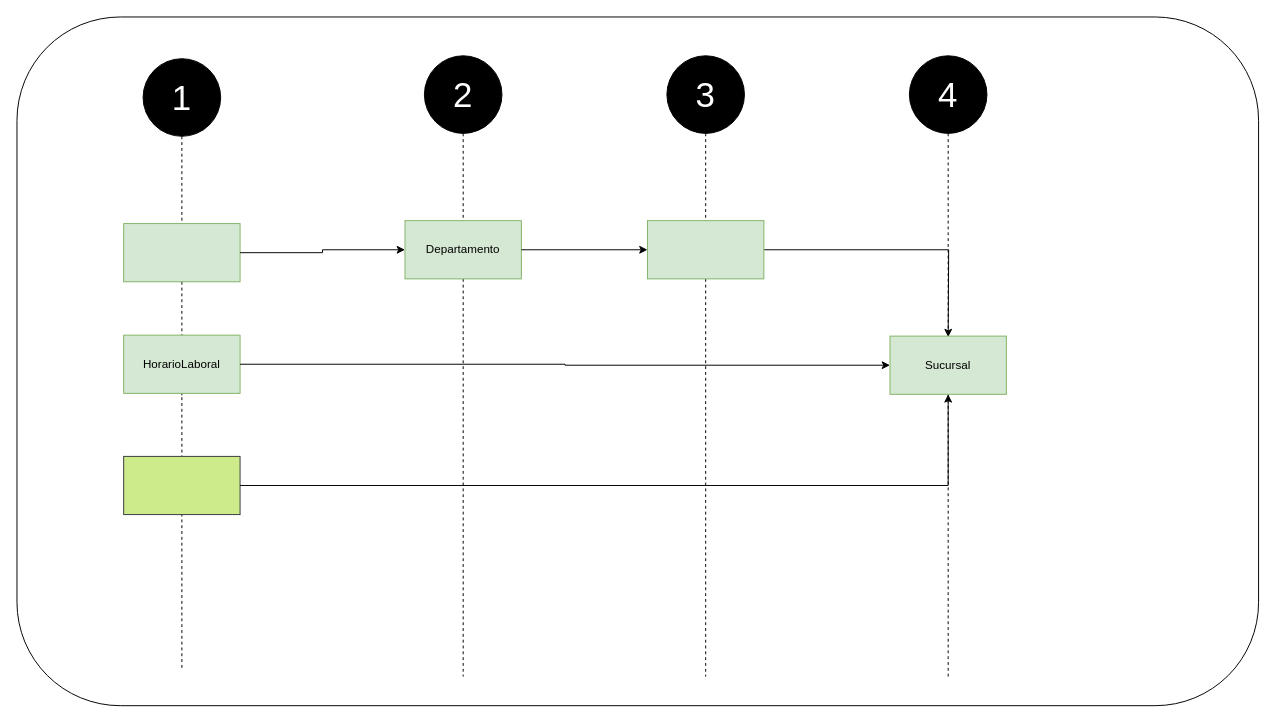
Some shapes in this 1276 by 723 pixel diagram are drawn without their labels. Here are the shapes that lost their labels. From the top down, the centre of each, then its label:
At (181,252): "Pais".
At (705,249): "Ciudad".
At (181,485): "SpaOnline".
